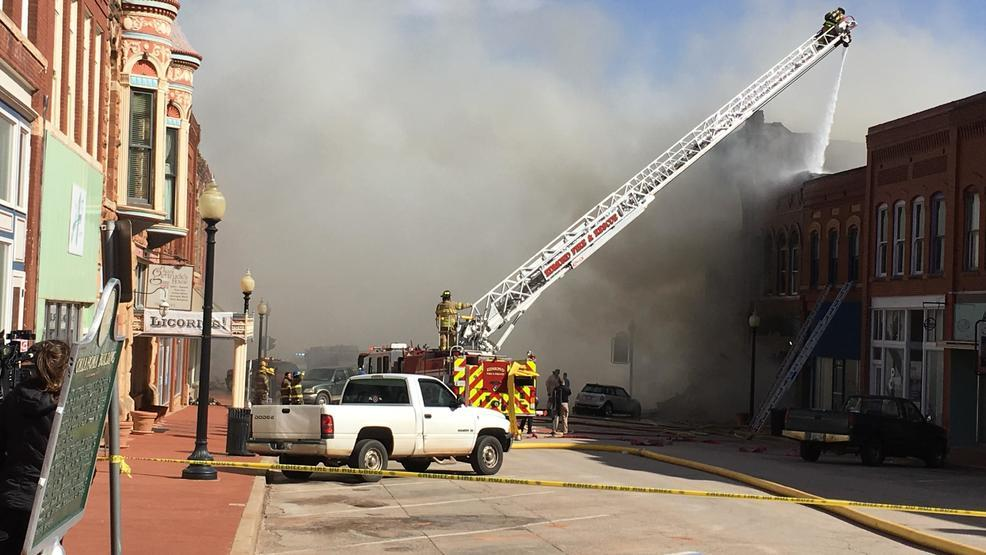smoke: (265, 53, 703, 331)
